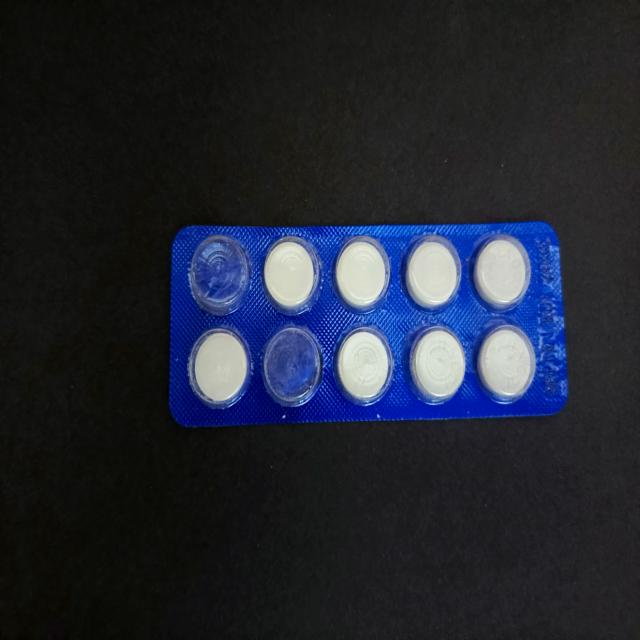defect: (188, 230, 252, 318), (261, 324, 324, 412)
